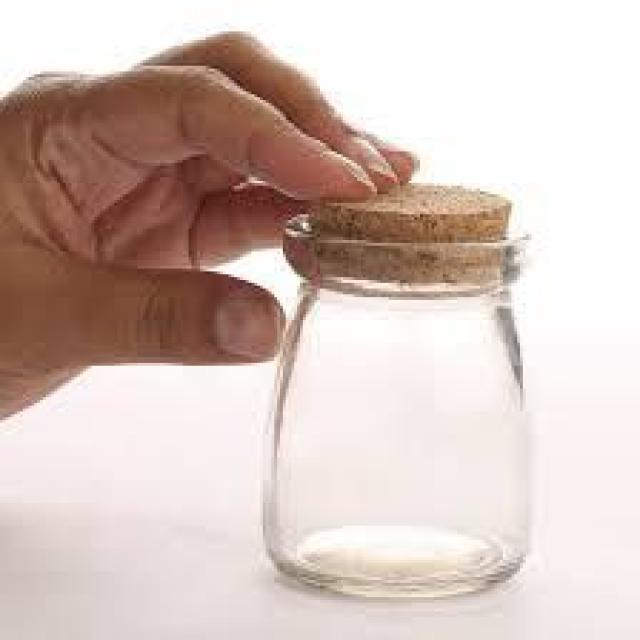Glass: (256, 178, 534, 612)
